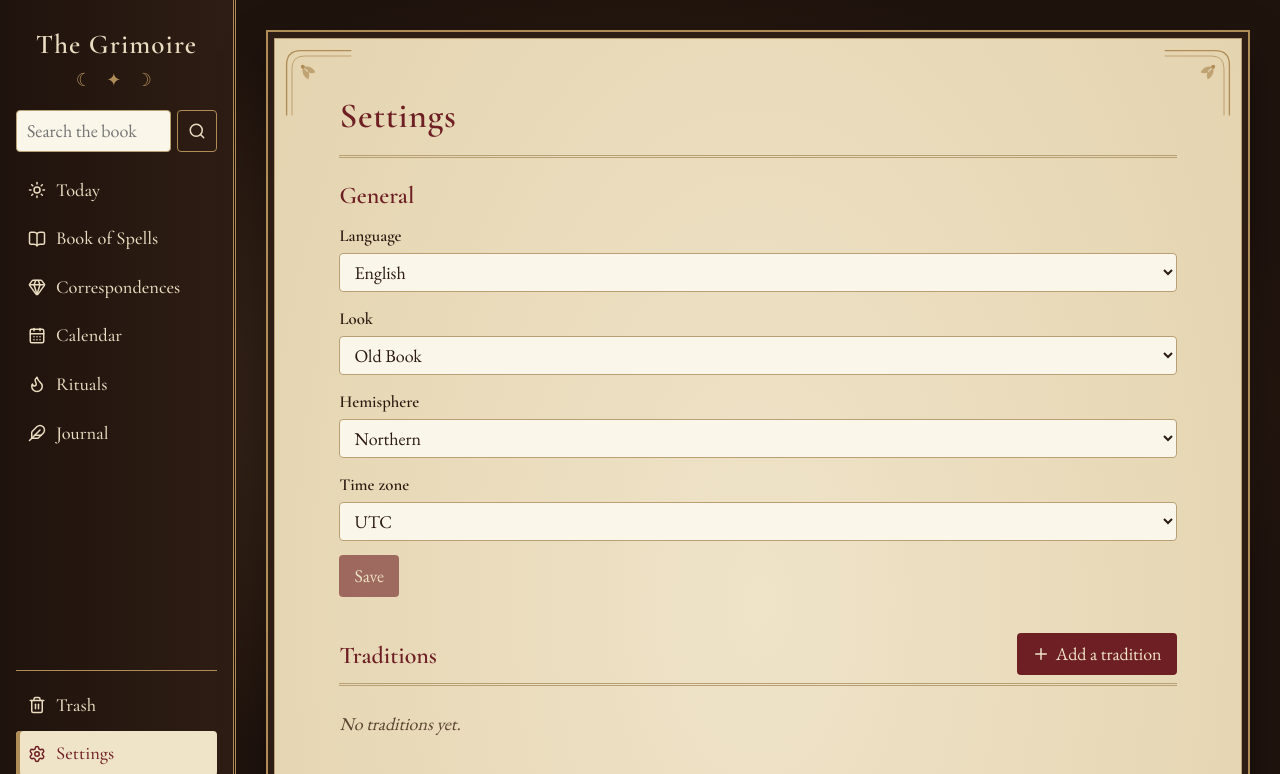
Settings › asks before leaving with an unsaved change
The image size is (1280, 774).
Step 1. Select "Southern" in the dropdown labelled "Hemisphere" → (758, 439), box left=339, top=419, right=1177, bottom=458
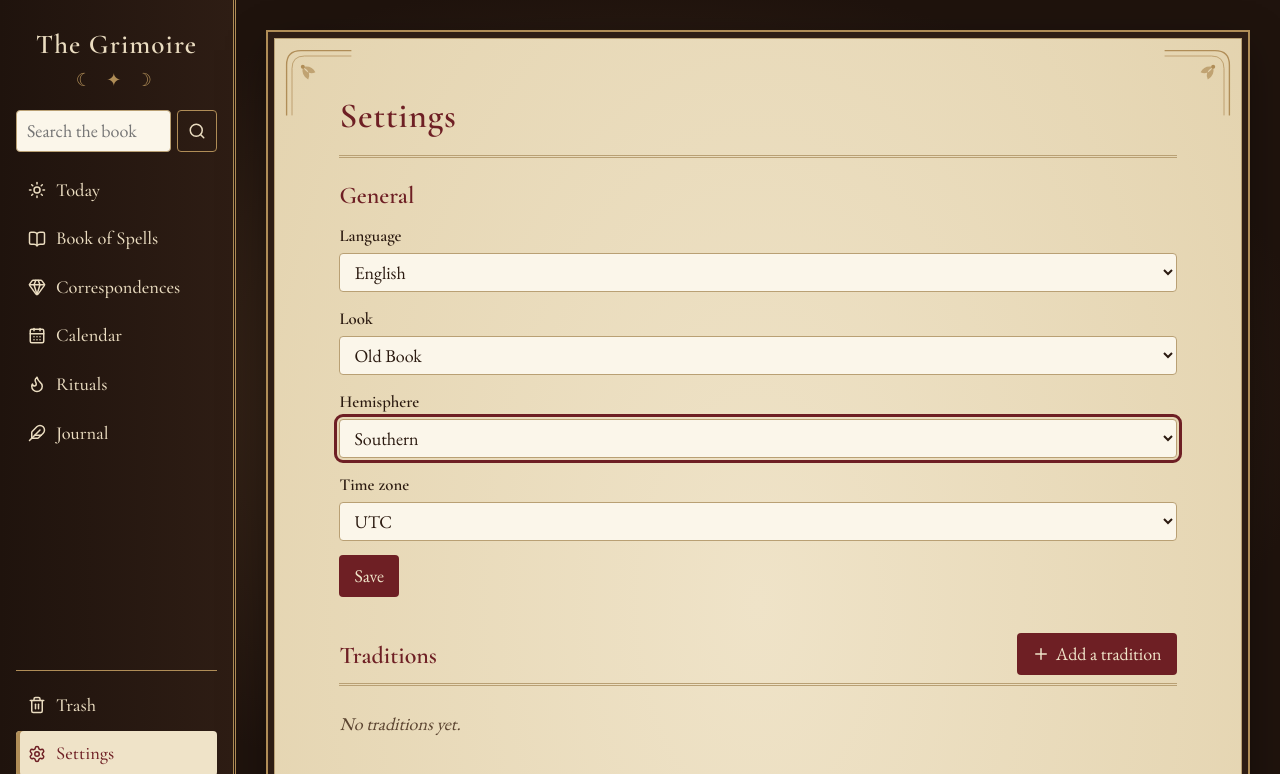
Step 2. Click the link "Today" → (64, 190), box left=28, top=179, right=100, bottom=201
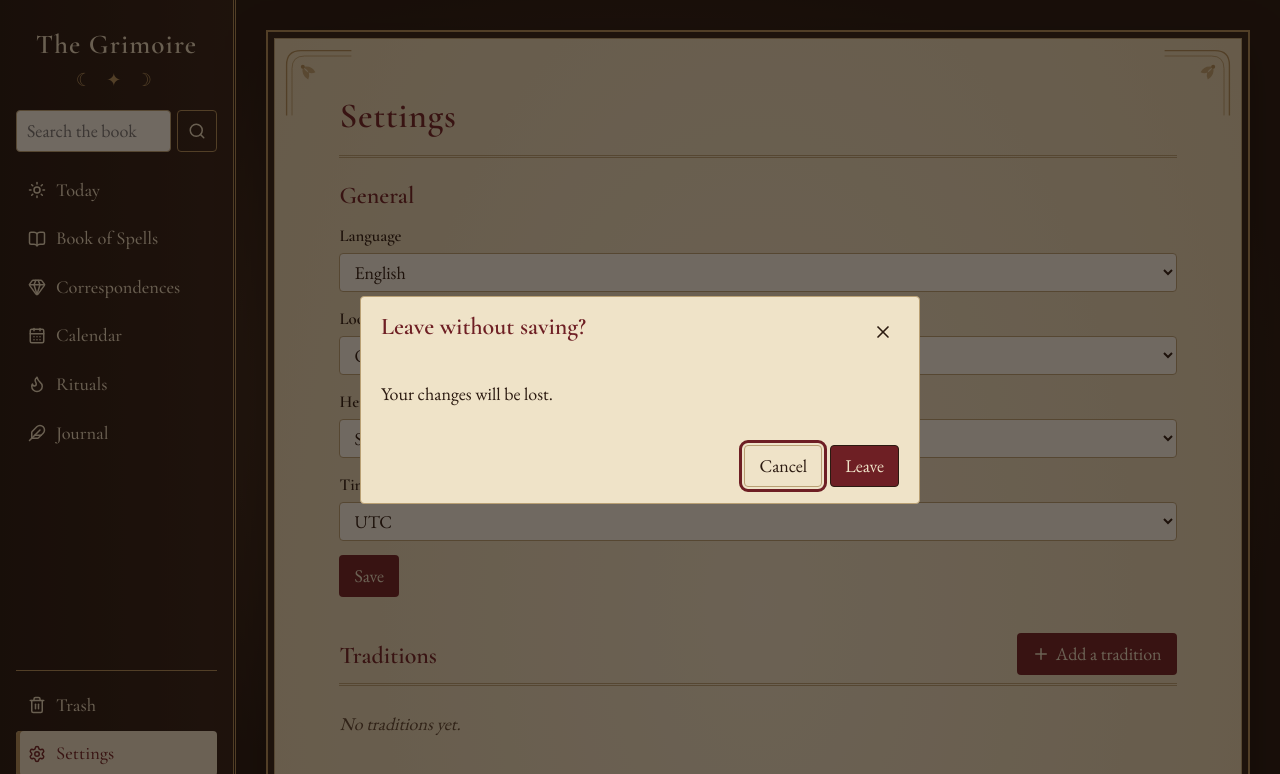
Now the heading "Leave without saving?" is shown, box left=381, top=313, right=586, bottom=342
